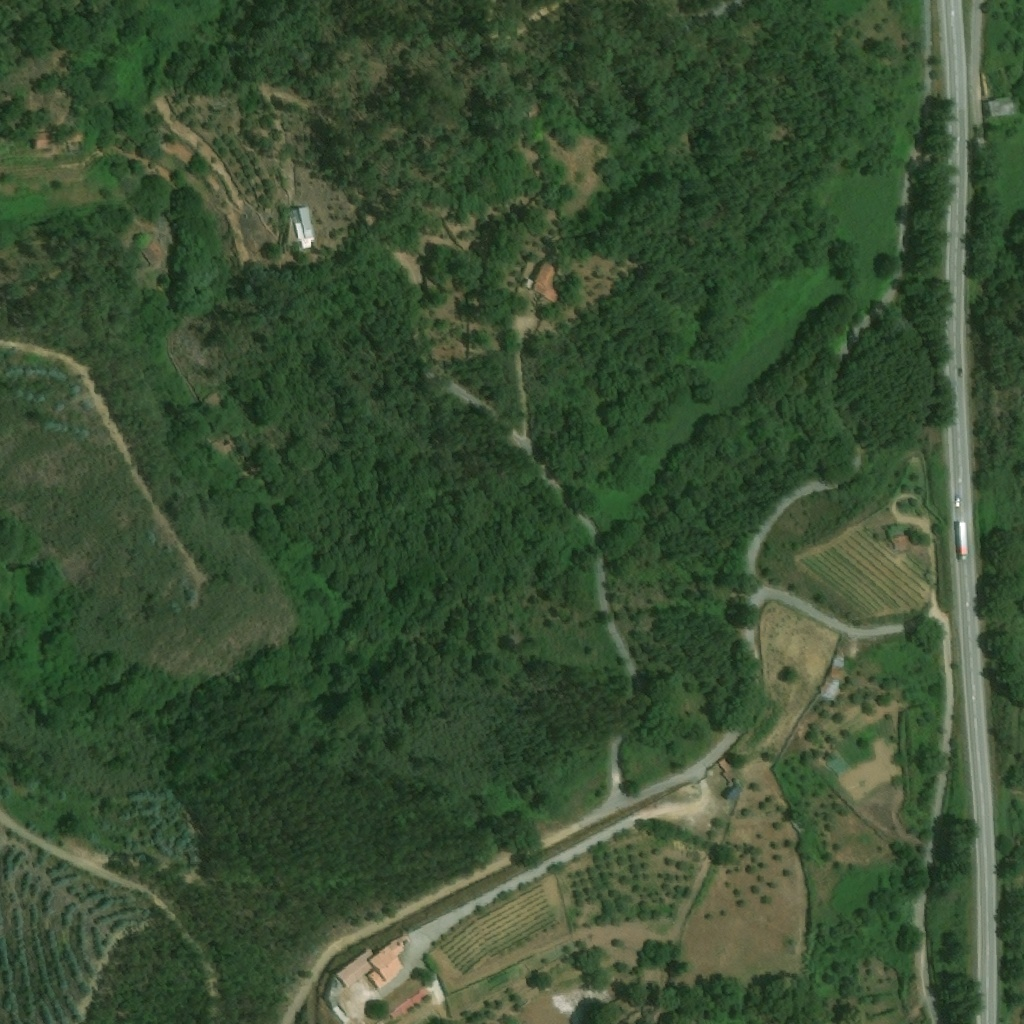0 no-damage: (336, 933, 411, 990), (531, 261, 561, 305), (389, 989, 430, 1021), (820, 652, 847, 700), (290, 205, 317, 250), (988, 96, 1018, 117), (141, 241, 166, 265), (718, 759, 739, 787), (32, 131, 53, 149), (893, 535, 910, 550)
